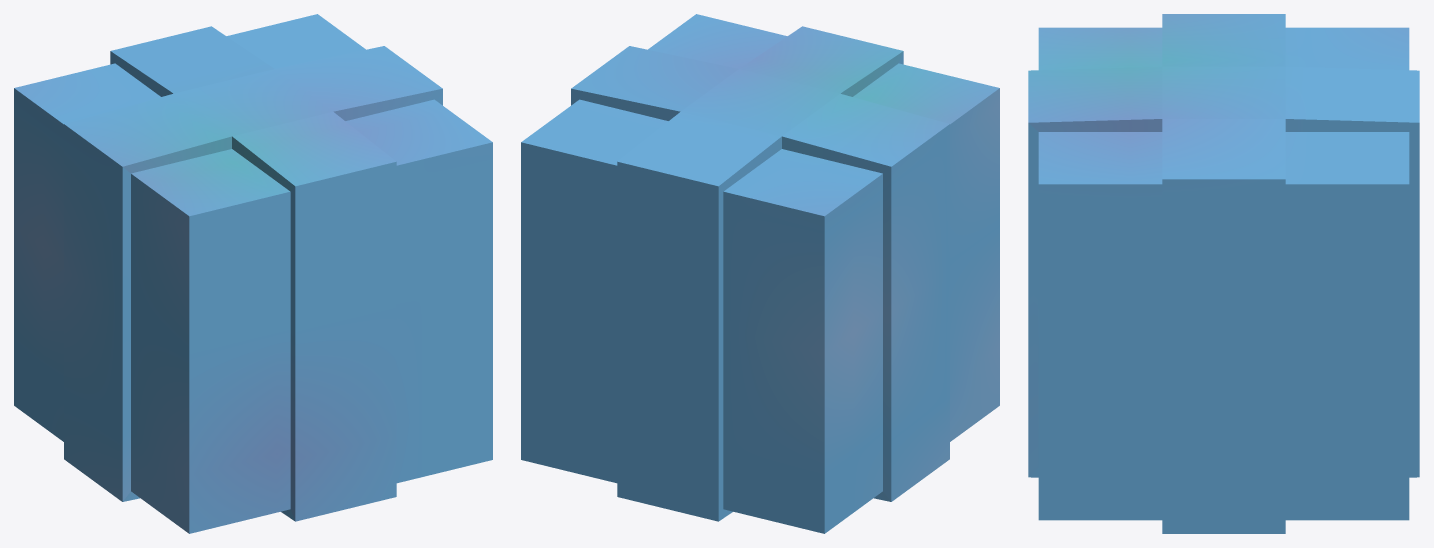
The model's file is Caixa.fbx.
3 views of the same model, side by side, from view 1: azimuth 30°, elevation 25°; view 2: azimuth 150°, elevation 25°; view 3: azimuth 270°, elevation 25° (orthographic). The views are drawn at different scales.
Visible parts, largest first — view 1: Caixa; view 2: Caixa; view 3: Caixa.
Boxes of the visible parts, left/top/right/bottom form: Caixa: left=14, top=14, right=492, bottom=533; Caixa: left=521, top=14, right=999, bottom=533; Caixa: left=1028, top=14, right=1419, bottom=533.
Bounding box in the file's own units: 24.08 × 24.6 × 24.08.
Materials: 1 (1 with a texture image).
